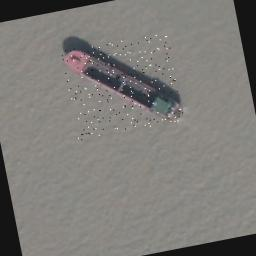boat: (61, 30, 185, 140)
